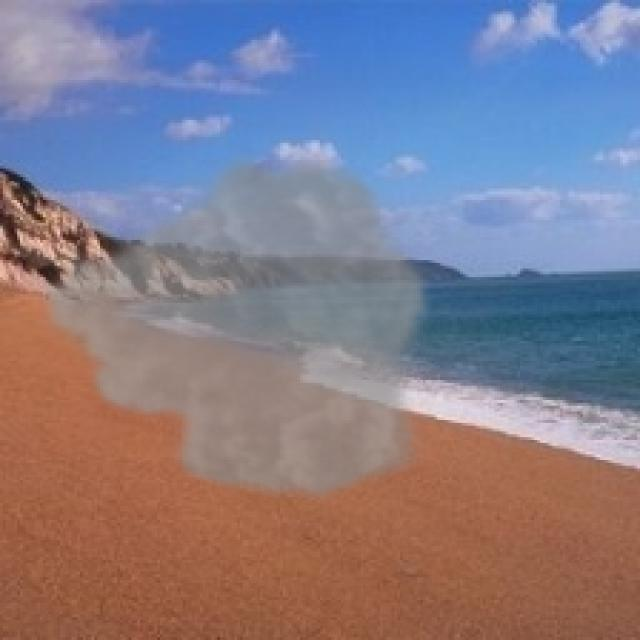smoke: (32, 145, 434, 506)
